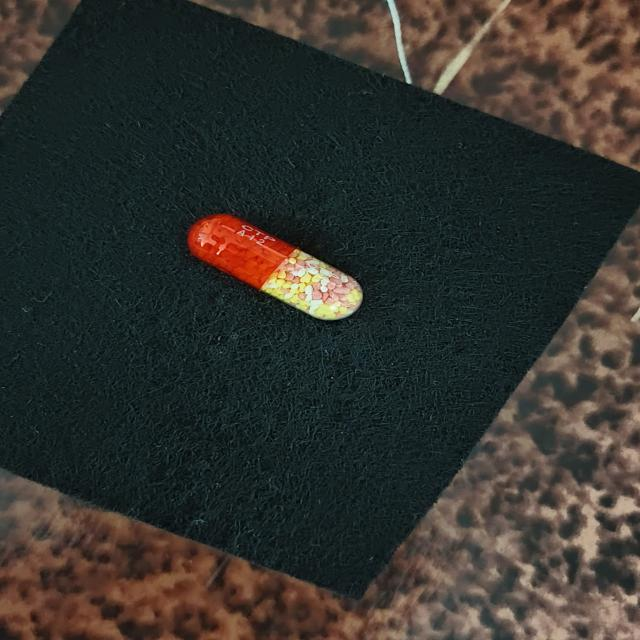Intact Capsule: (187, 213, 363, 321)
